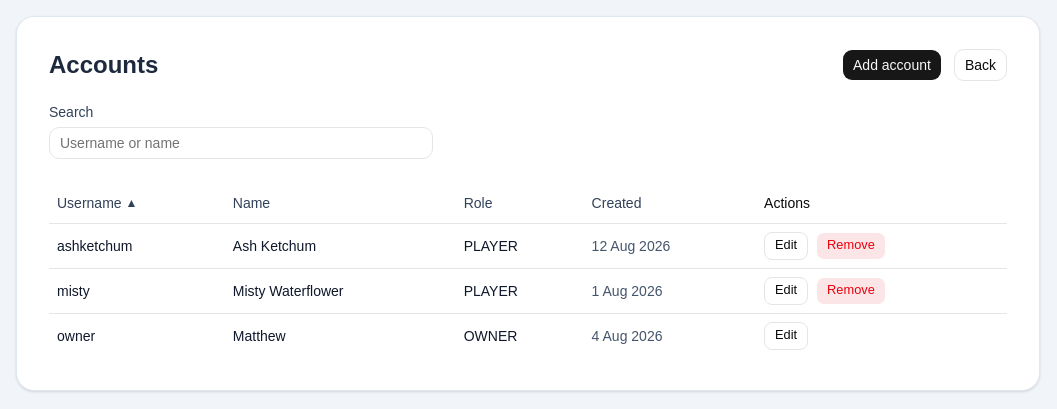
Test: AccountsPage › says so when the search matches nothing, rather than showing an empty table
Expected: the text "ashketchum" is shown, [49,223,225,268]
Type "nobody here" into the search field labelled "Search".
click(241, 143); type("nobody here")  # box [49,127,433,159]
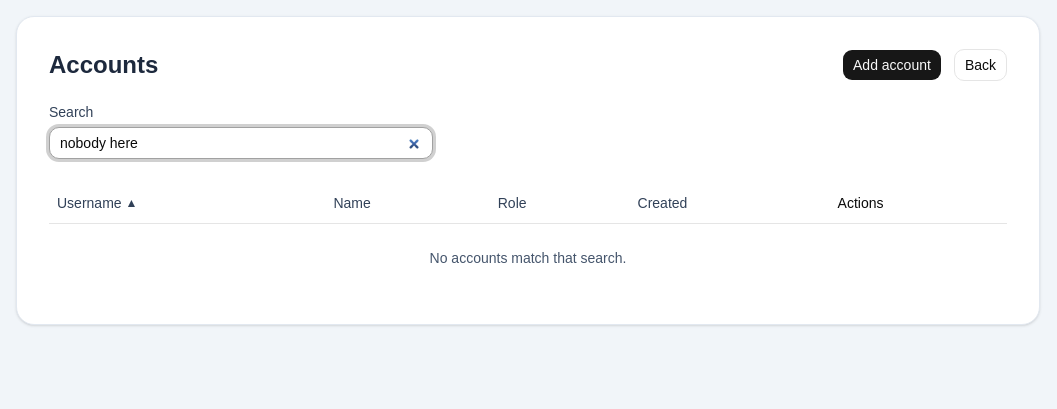
Now the text "No accounts match that search." is shown, box [49,223,1007,292]
